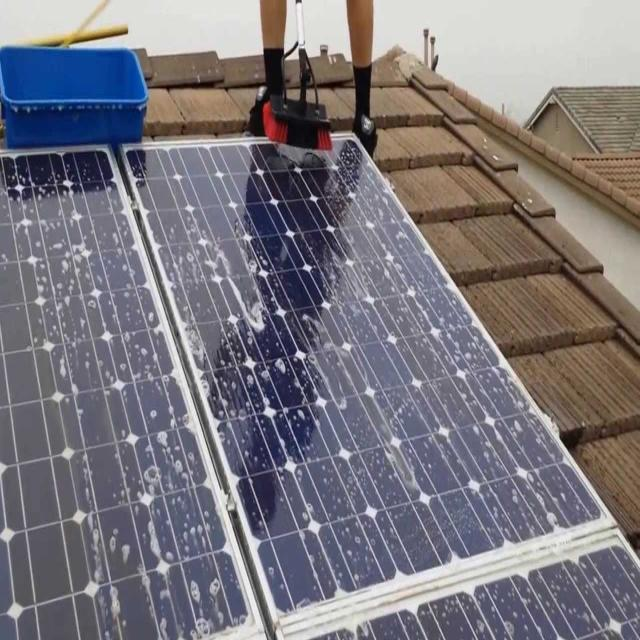clean-solar-panel: (1, 136, 640, 638)
